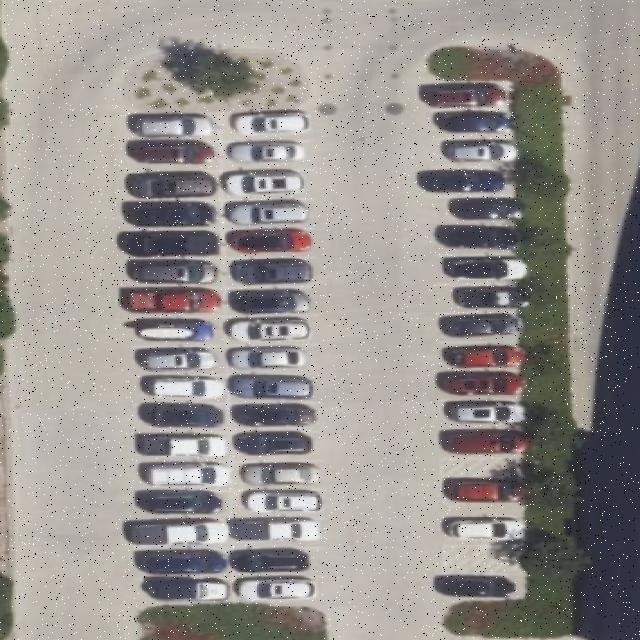Parked: (136, 546, 236, 578), (126, 258, 226, 288), (128, 228, 225, 258), (136, 517, 232, 547), (434, 283, 530, 313), (135, 373, 229, 403), (137, 431, 230, 461), (140, 462, 232, 492), (234, 460, 326, 490), (126, 288, 224, 316), (437, 255, 528, 285), (235, 548, 325, 578), (127, 200, 223, 228), (136, 403, 232, 431), (418, 80, 514, 108), (130, 142, 218, 172), (228, 316, 316, 346), (435, 223, 523, 253), (134, 316, 228, 344), (134, 346, 226, 374), (222, 142, 314, 170), (235, 490, 327, 518), (234, 520, 326, 548), (438, 517, 530, 545), (230, 373, 318, 402), (131, 112, 221, 140), (143, 490, 233, 518), (222, 112, 312, 140), (225, 229, 315, 257), (225, 258, 315, 286), (438, 400, 528, 428), (437, 371, 527, 399), (224, 200, 312, 228), (227, 288, 315, 316), (231, 402, 319, 430), (232, 432, 320, 460), (236, 578, 324, 606), (440, 476, 528, 504), (436, 196, 524, 224), (230, 346, 316, 374), (442, 428, 528, 456), (136, 580, 234, 604), (438, 342, 522, 370), (440, 313, 524, 341), (133, 173, 223, 199), (223, 172, 313, 198), (432, 110, 514, 138), (432, 140, 516, 167), (427, 168, 518, 192), (437, 575, 525, 597)
